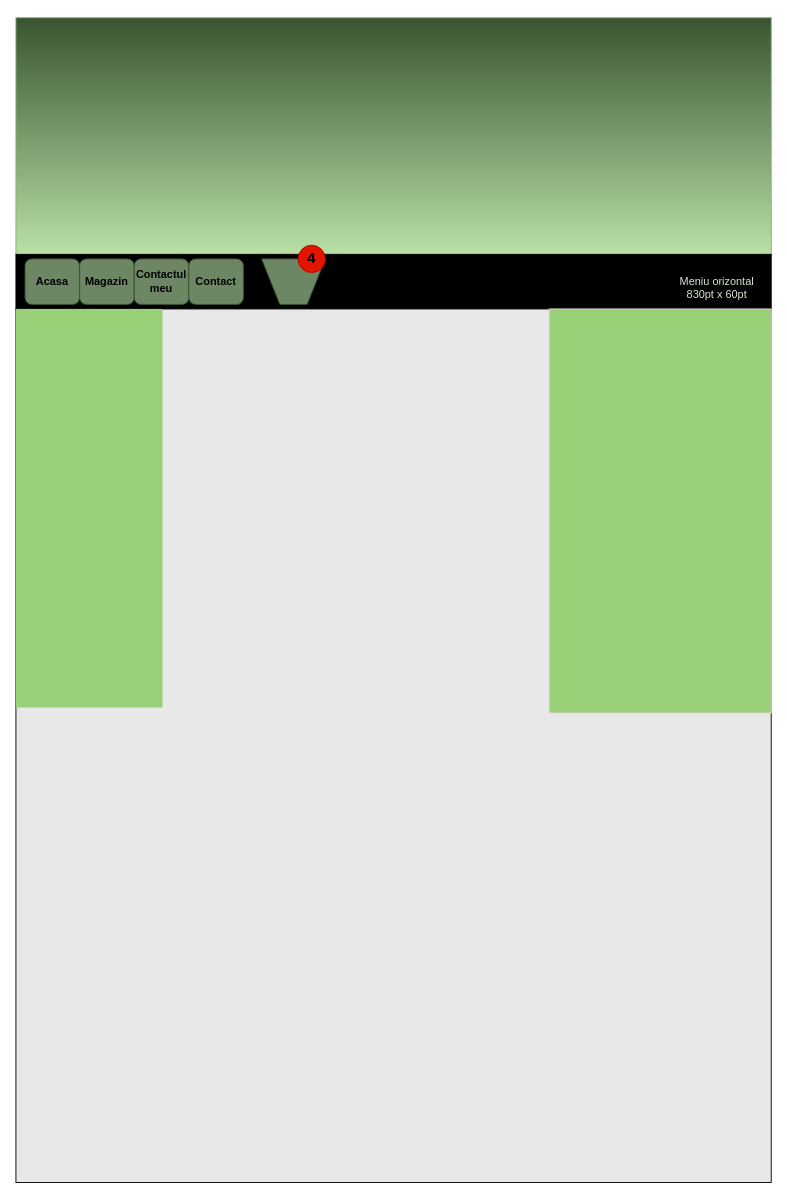
The diagram is 787 pixels wide and 1198 high, and some of its shapes have lost their labels. The shapes that lost their labels are listed below. From the top down, each one's centre as x and y in pixels, then its label:
At [393,135]: "Imagine specifica site-ului 830 pt x 260 pt".
At [88,507]: "Chat online 161pt x 468pt".
At [659,510]: "Div pentru video 586pt x 320pt".
